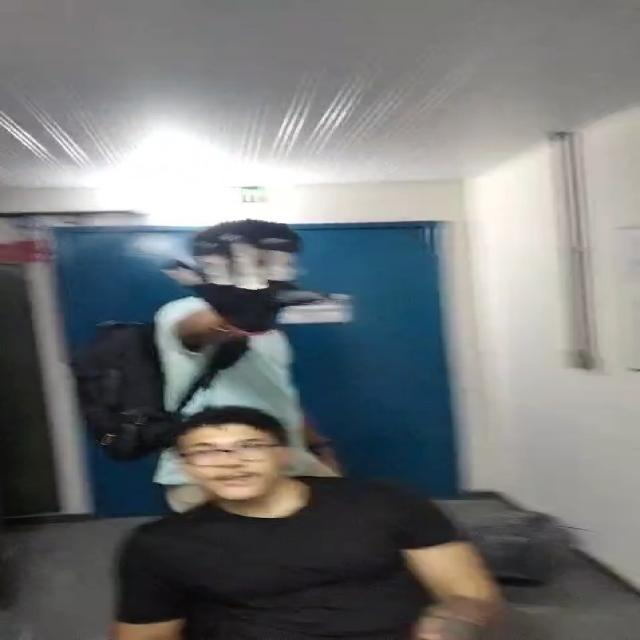Gloves: (158, 237, 332, 333)
